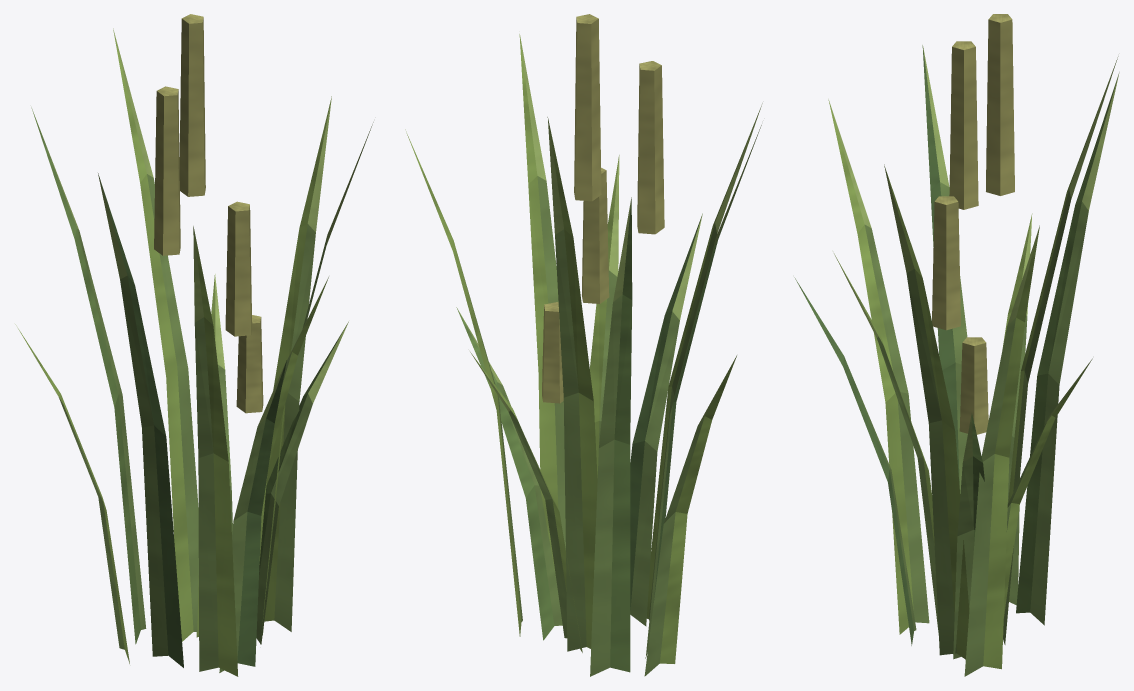
Rendered from reed_clump_03.fbx.
3 renders of one model, left to right at view 1: azimuth 30°, elevation 25°; view 2: azimuth 150°, elevation 25°; view 3: azimuth 270°, elevation 25°, orthographic. The views are drawn at different scales.
Parts seen in each view (by area): view 1: reed_clump_03; view 2: reed_clump_03; view 3: reed_clump_03.
Boxes of the visible parts, bbox=[...] form: reed_clump_03: bbox=[15, 14, 373, 676]; reed_clump_03: bbox=[405, 14, 762, 676]; reed_clump_03: bbox=[794, 14, 1119, 676].
Size of the model in its own units: 85.32 by 157 by 75.
Materials: 1 (1 with a texture image).
